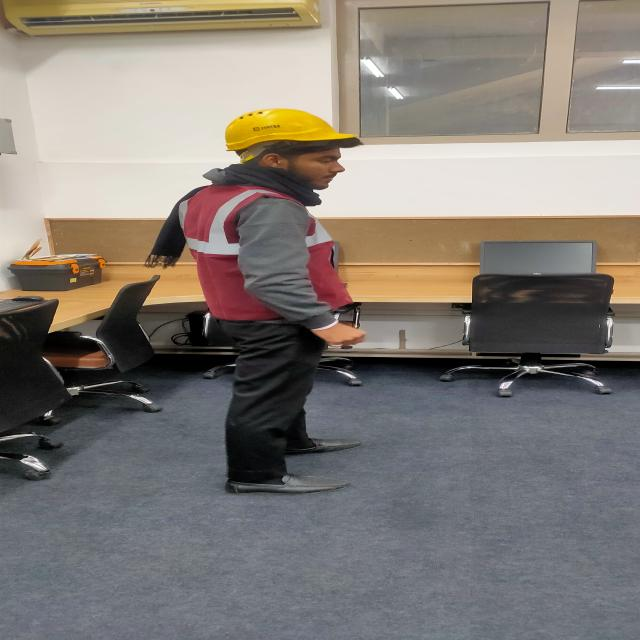safe: (173, 101, 381, 505)
